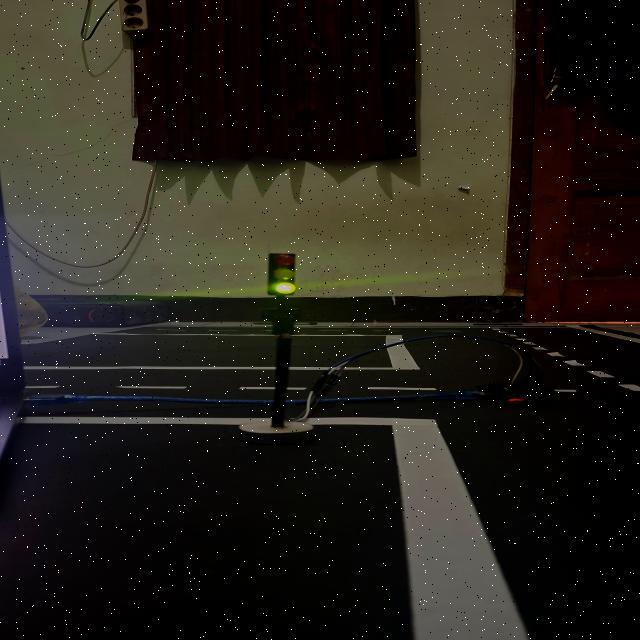Lampu Hijau: (267, 252, 297, 296)
